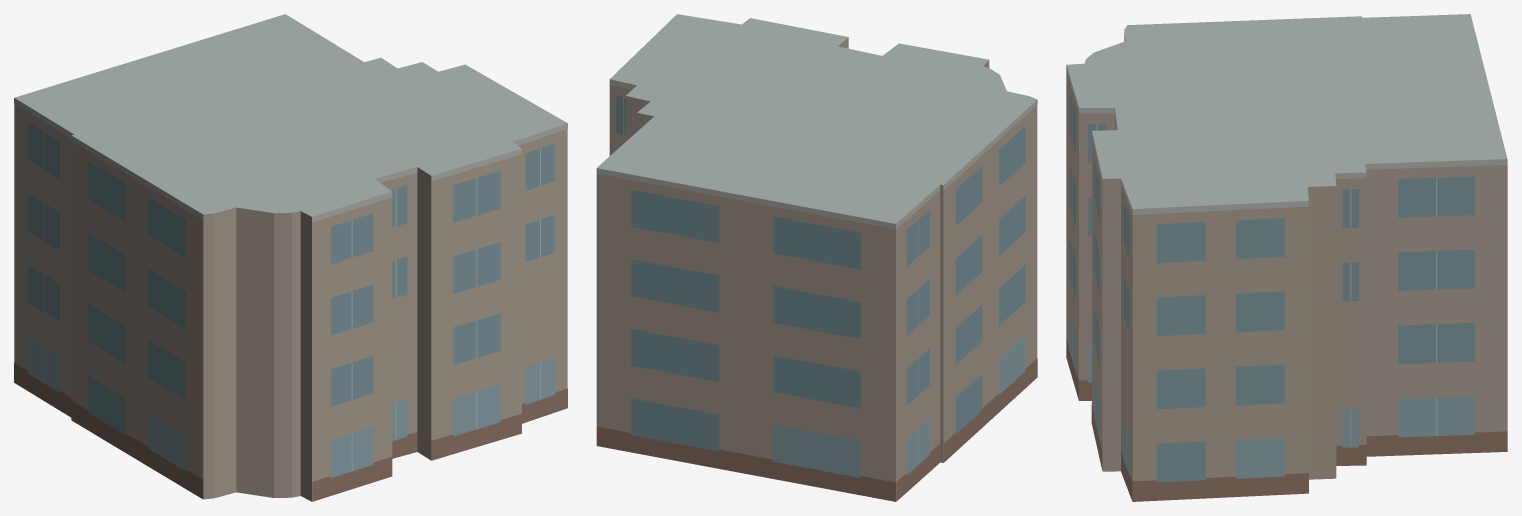
The model's file is survey-upis-32995808.glb.
3 renders of one model, left to right at view 1: azimuth 30°, elevation 25°; view 2: azimuth 150°, elevation 25°; view 3: azimuth 270°, elevation 25°, orthographic. The views are drawn at different scales.
Visible parts, largest first — view 1: survey-upis-32995808.tmp; view 2: survey-upis-32995808.tmp; view 3: survey-upis-32995808.tmp.
Boxes of the visible parts, x1,y1,x2,y2 form: survey-upis-32995808.tmp: (14,14,567,501); survey-upis-32995808.tmp: (596,14,1037,501); survey-upis-32995808.tmp: (1066,14,1507,501).
Size of the model in its own units: 17.59 by 12.3 by 16.8.
